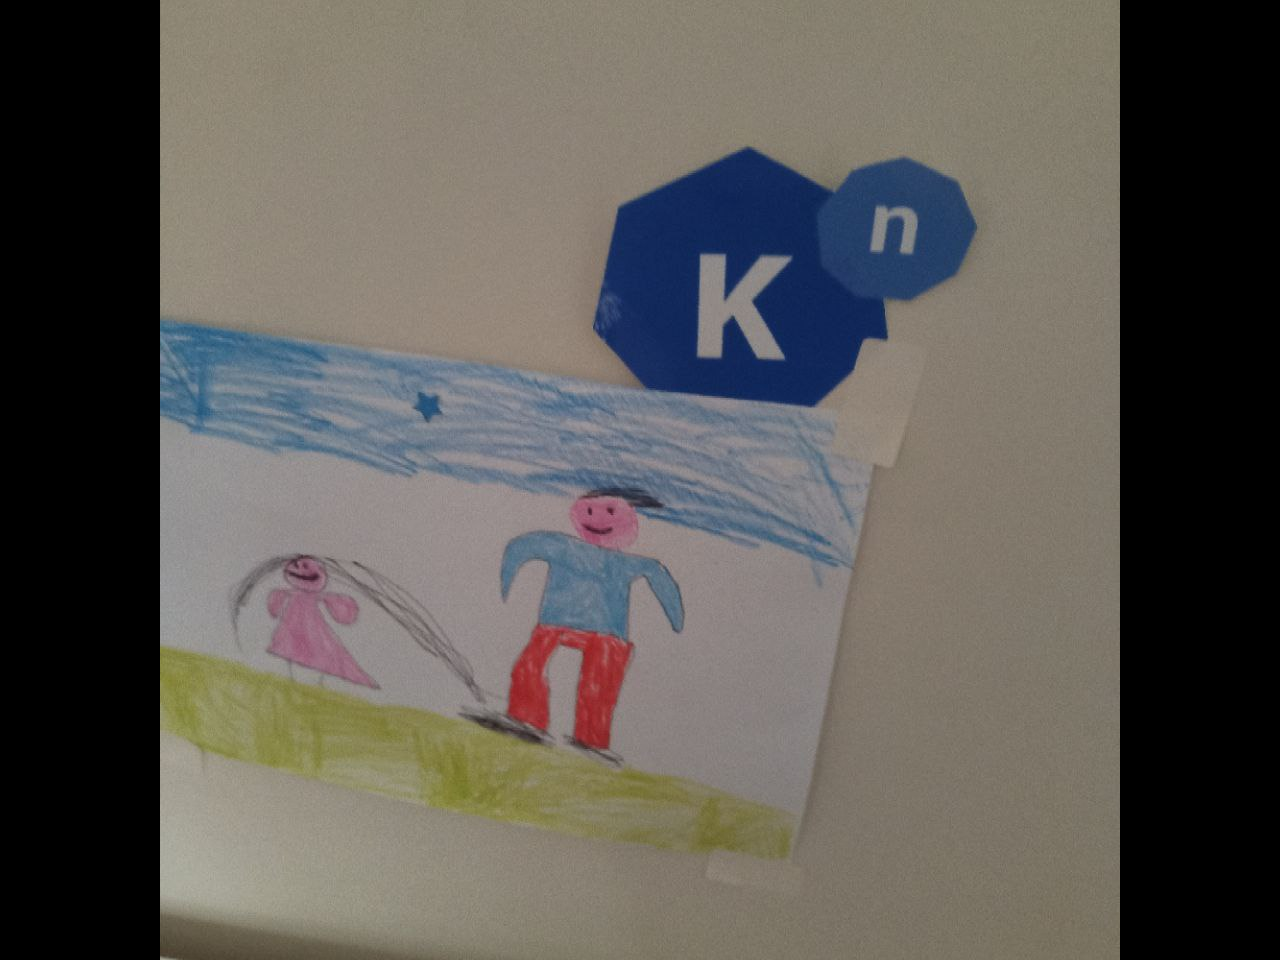knative: (593, 147, 977, 406)
